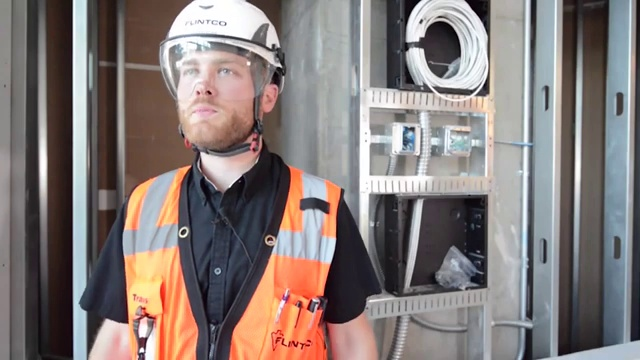helmet: (152, 1, 295, 110)
jacket: (89, 153, 349, 360)
